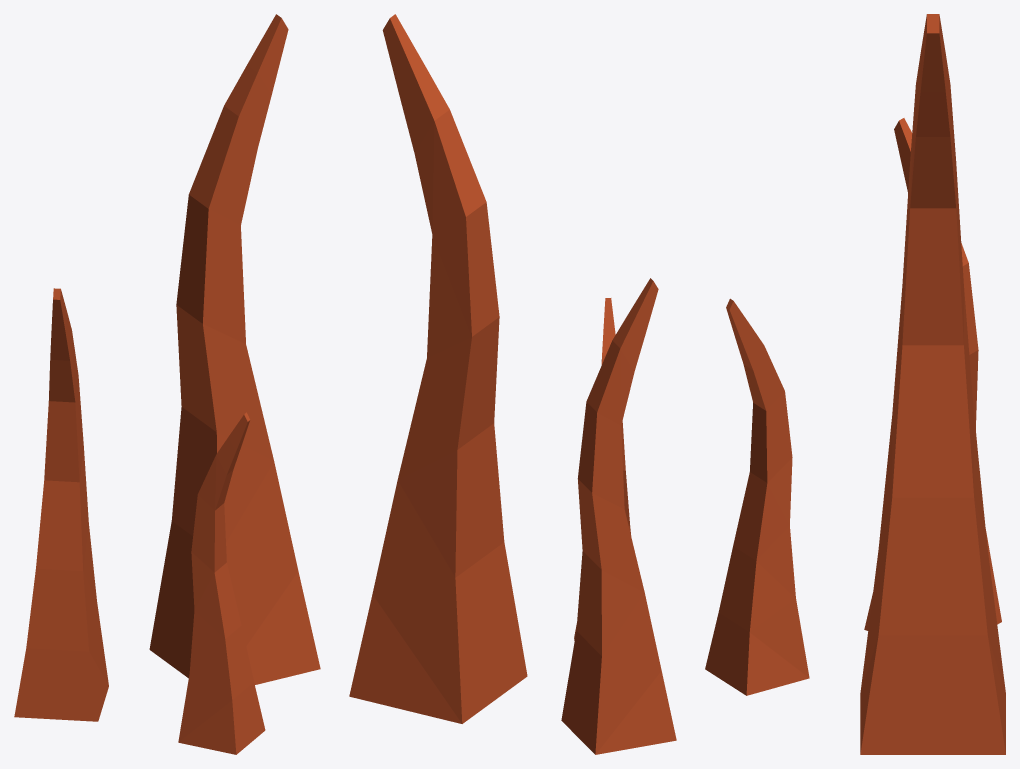
Rendered from world_4_grass_3.dae.
The picture shows the model from 3 angles, left to right: view 1: azimuth 30°, elevation 25°; view 2: azimuth 150°, elevation 25°; view 3: azimuth 270°, elevation 25°; orthographic projection. The views are drawn at different scales.
Visible parts, largest first — view 1: grass_3; view 2: grass_3; view 3: grass_3.
Part boxes in pixels (box(x1,y1,x2,y2)): grass_3: box(14, 14, 320, 754); grass_3: box(349, 14, 676, 754); grass_3: box(705, 14, 1005, 754).
Bounding box in the file's own units: 0.2571 × 0.2067 × 0.5571.
